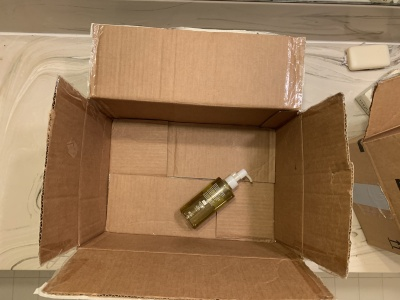innerbox: (84, 97, 303, 261)
outerbox: (49, 22, 350, 297)
product: (186, 171, 242, 220)
